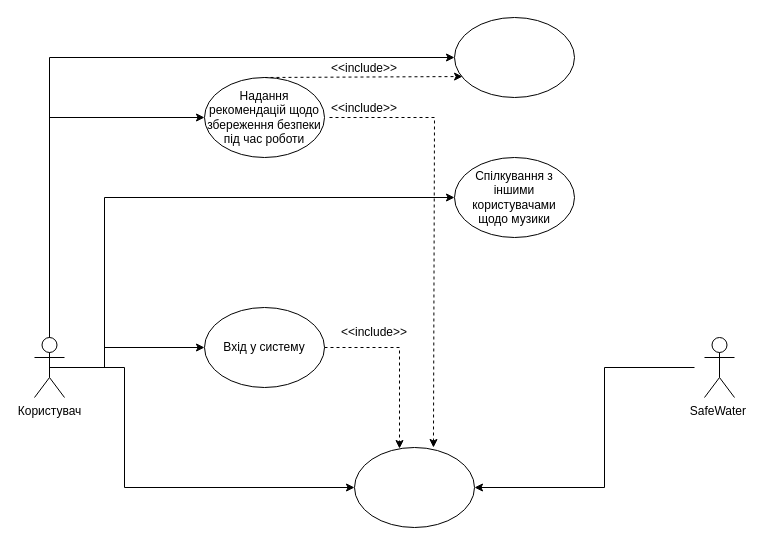
The diagram is 766 pixels wide and 545 high, and some of its shapes have lost their labels. The centre of each missing label's shape, as x and y in pixels:
"Отримання даних по запиту користувача" goes at point (514, 57).
"Перегляд інформації щодо чистоти води неподалік" goes at point (414, 487).
